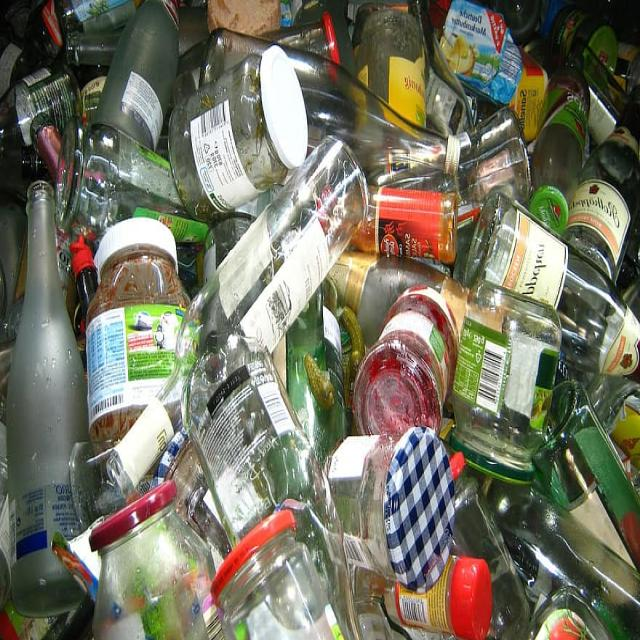Vidrio: (83, 111, 390, 536), (453, 164, 640, 398), (4, 170, 101, 620), (444, 255, 556, 496), (170, 36, 315, 220), (79, 468, 221, 640), (323, 407, 451, 595), (202, 495, 357, 640), (79, 0, 204, 172), (441, 86, 538, 218), (0, 55, 90, 165)
